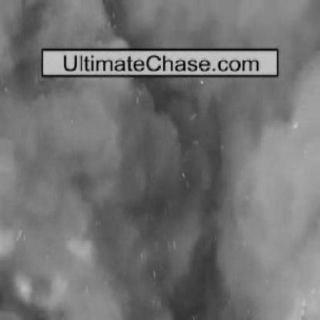Smoke: (15, 80, 312, 250), (30, 1, 304, 40), (115, 256, 318, 308)
